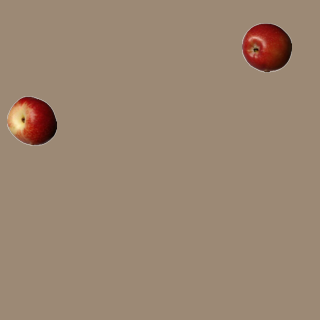Apple Braeburn: (241, 22, 291, 72)
Nectarine: (6, 95, 56, 145)
